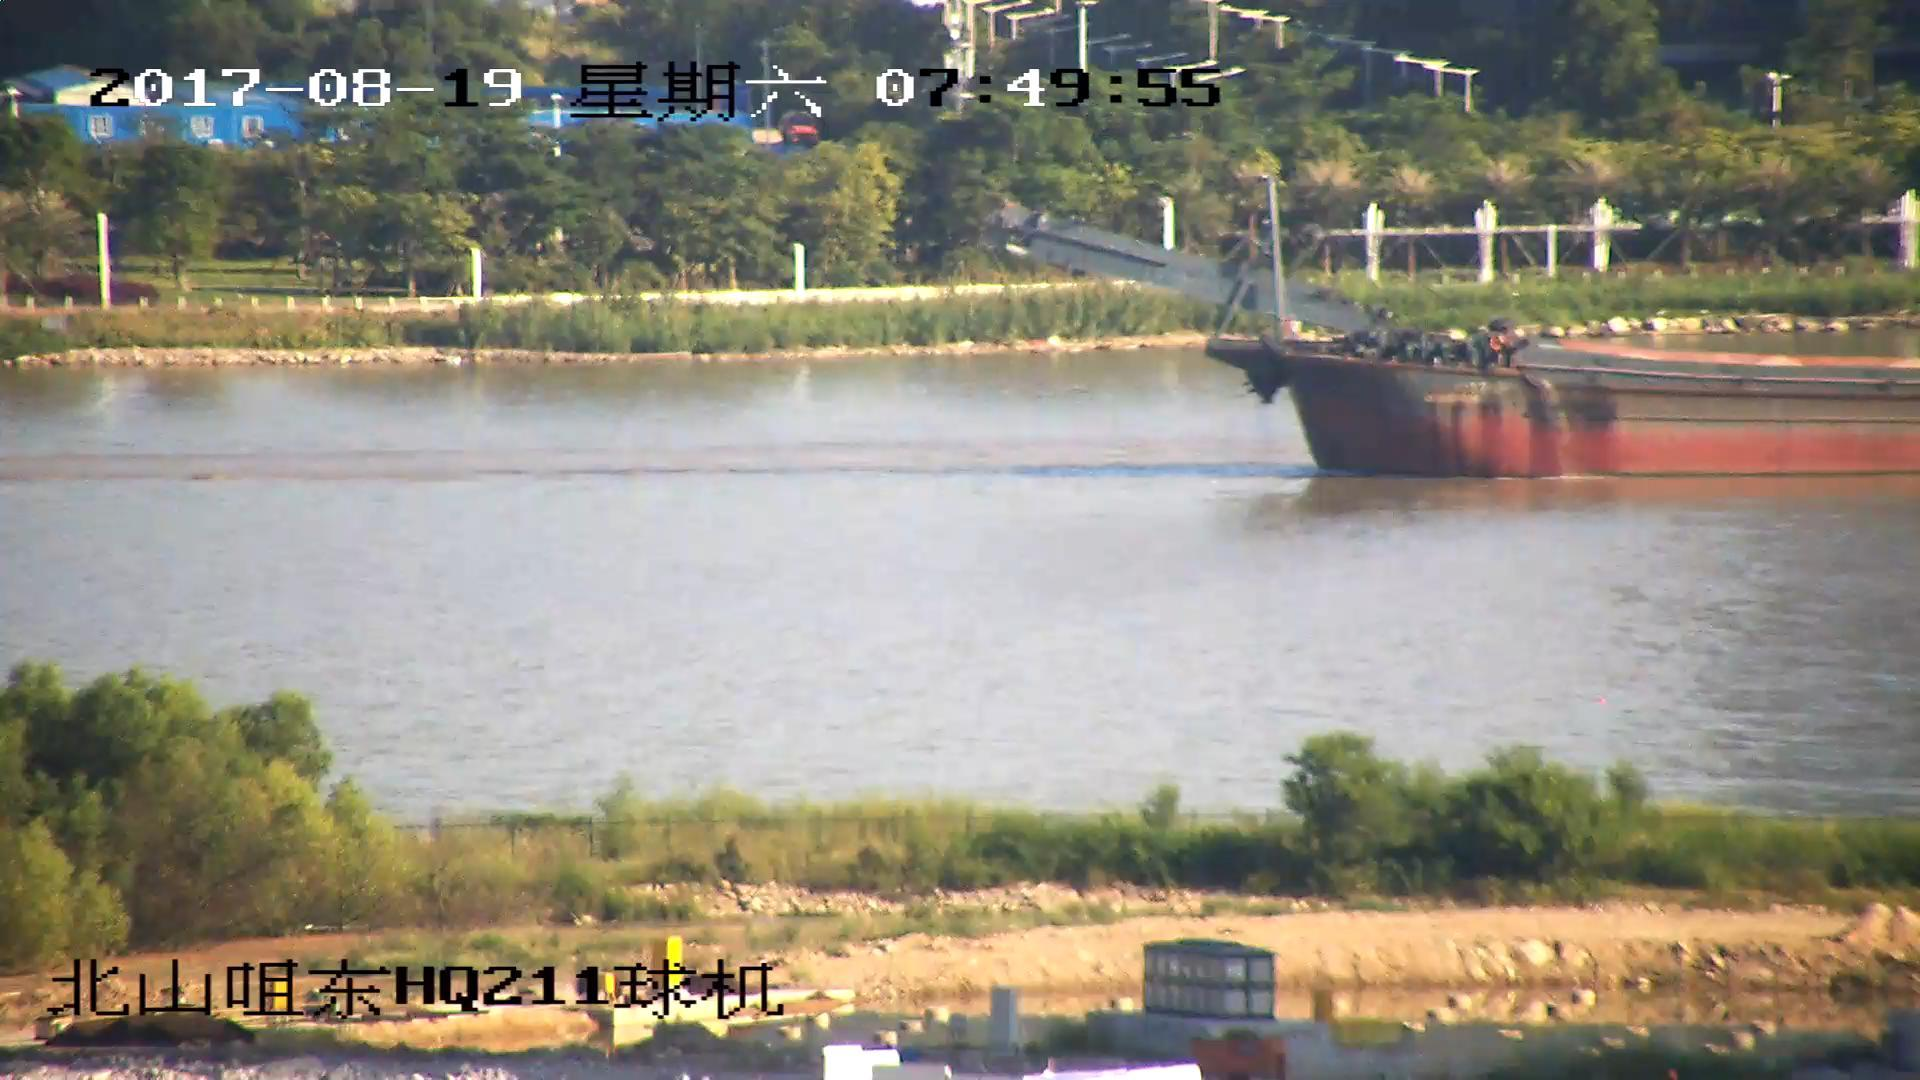Ship: (998, 186, 1920, 485)
